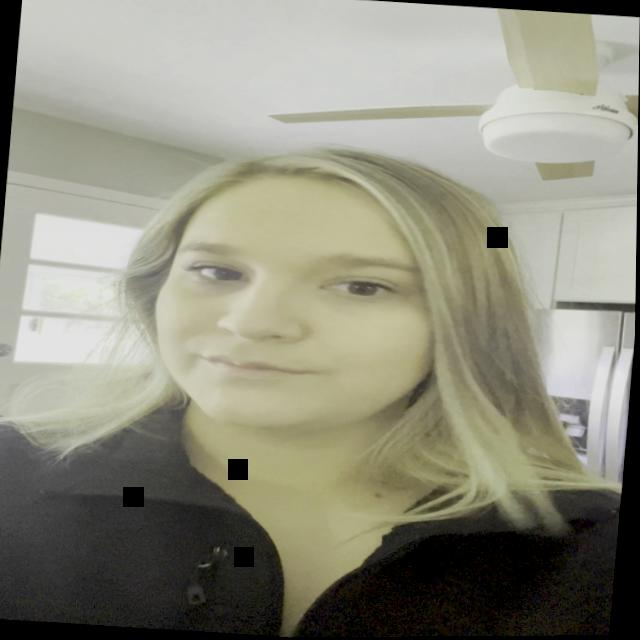NO-Mask: (124, 151, 525, 481)
